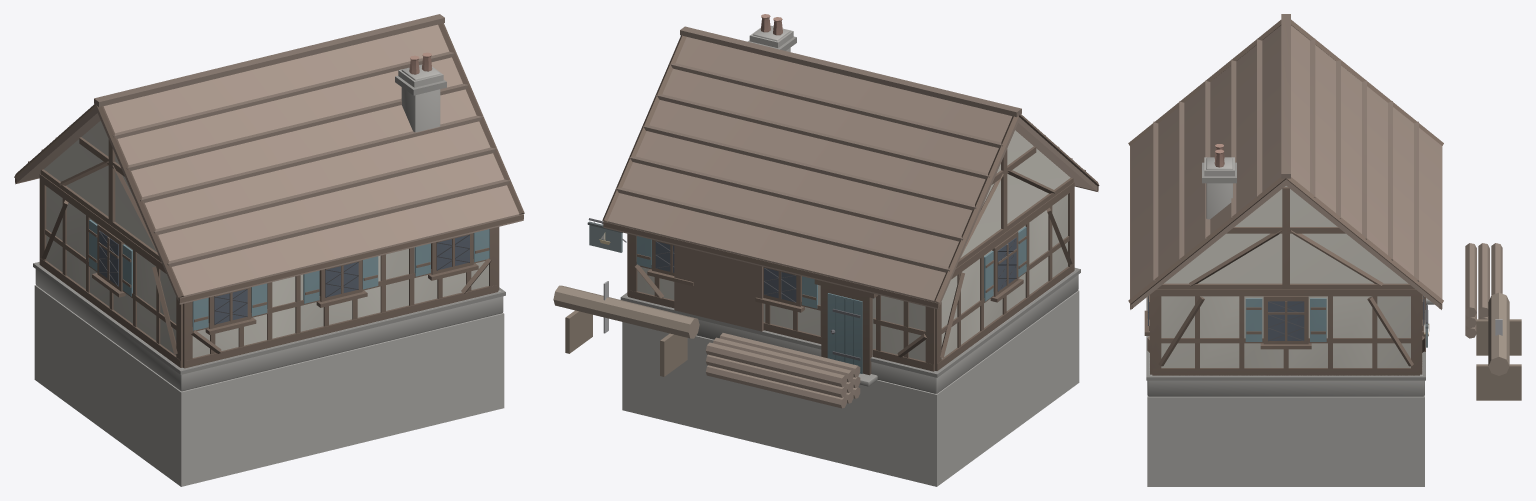
Rendered from shipyard_3.gltf.
The picture shows the model from 3 angles, left to right: view 1: azimuth 30°, elevation 25°; view 2: azimuth 150°, elevation 25°; view 3: azimuth 270°, elevation 25°; orthographic projection. The views are drawn at different scales.
Parts seen in each view (by area): view 1: Body; view 2: Body; view 3: Body.
Part boxes in pixels (x1,y1,x2,y2): Body: [14, 14, 524, 486]; Body: [553, 14, 1099, 486]; Body: [1128, 14, 1521, 486].
Size of the model in its own units: 10.61 by 9.24 by 10.36.
